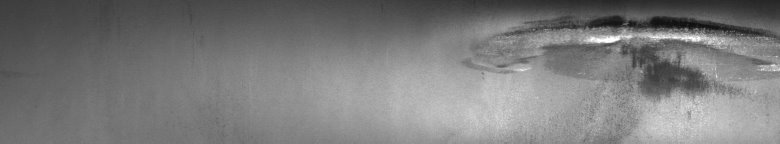ke: (462, 4, 776, 119)
